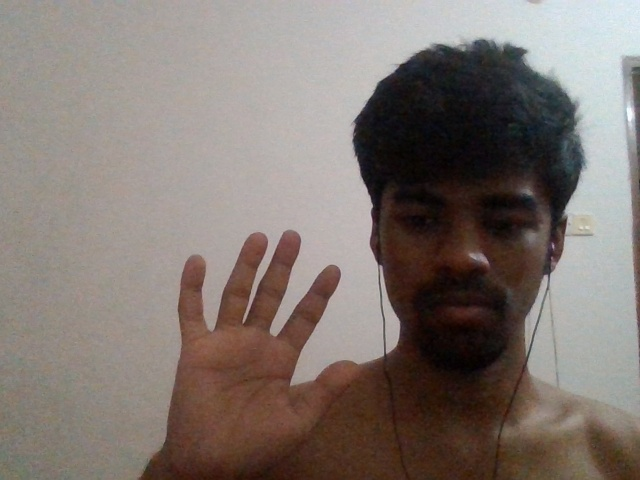Hello: (174, 224, 366, 466)
